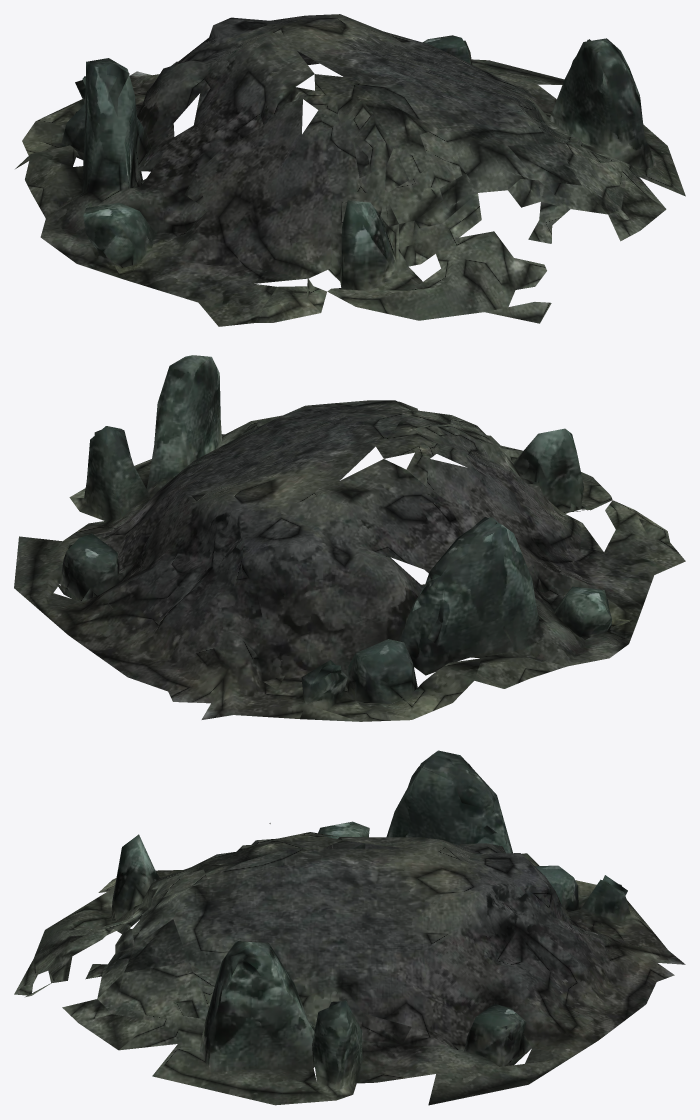
The model's file is haunted-hill-1.glb.
3 renders of one model, top to bottom at view 1: azimuth 30°, elevation 25°; view 2: azimuth 150°, elevation 25°; view 3: azimuth 270°, elevation 25°, orthographic. The views are drawn at different scales.
Parts seen in each view (by area): view 1: geometry_0; view 2: geometry_0; view 3: geometry_0.
Boxes of the visible parts, x1,y1,x2,y2 form: geometry_0: [15, 14, 685, 326]; geometry_0: [14, 355, 685, 721]; geometry_0: [14, 750, 685, 1105].
Bounding box in the file's own units: 0.8436 × 0.2238 × 0.905.
Materials: 1 (1 with a texture image).
